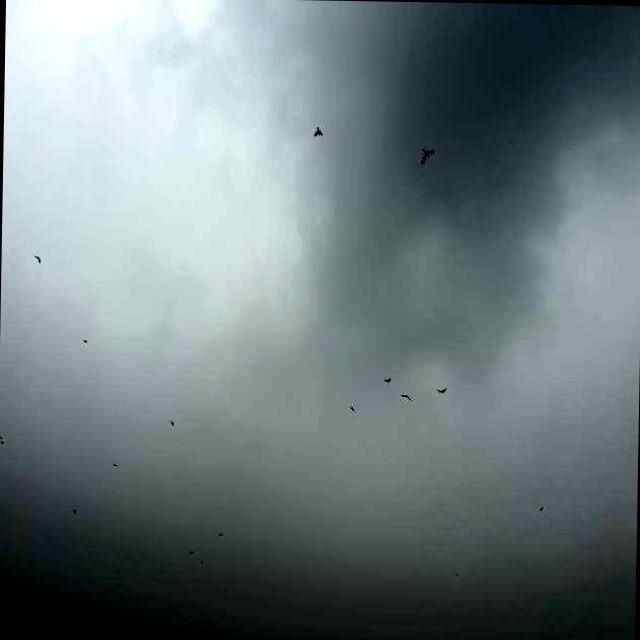bird: (421, 144, 436, 170), (313, 124, 329, 142), (437, 382, 449, 402)
